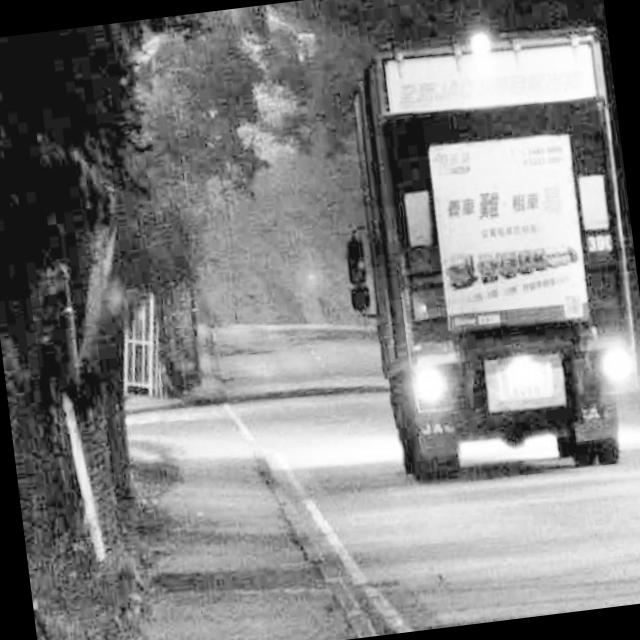Truck: (318, 16, 640, 493)
